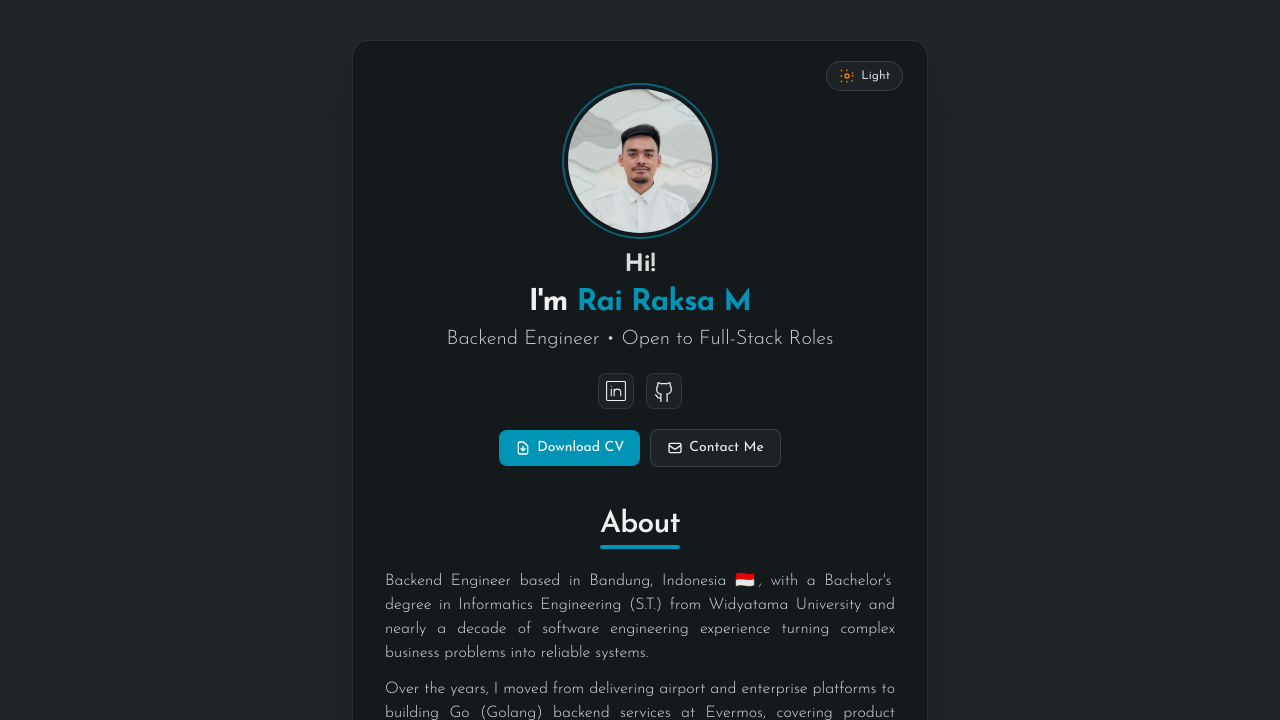
Test case: App › toggles between dark mode and light mode
Click the button with aria-label "Switch to light mode". click: (865, 76)
box: [826,61,903,91]
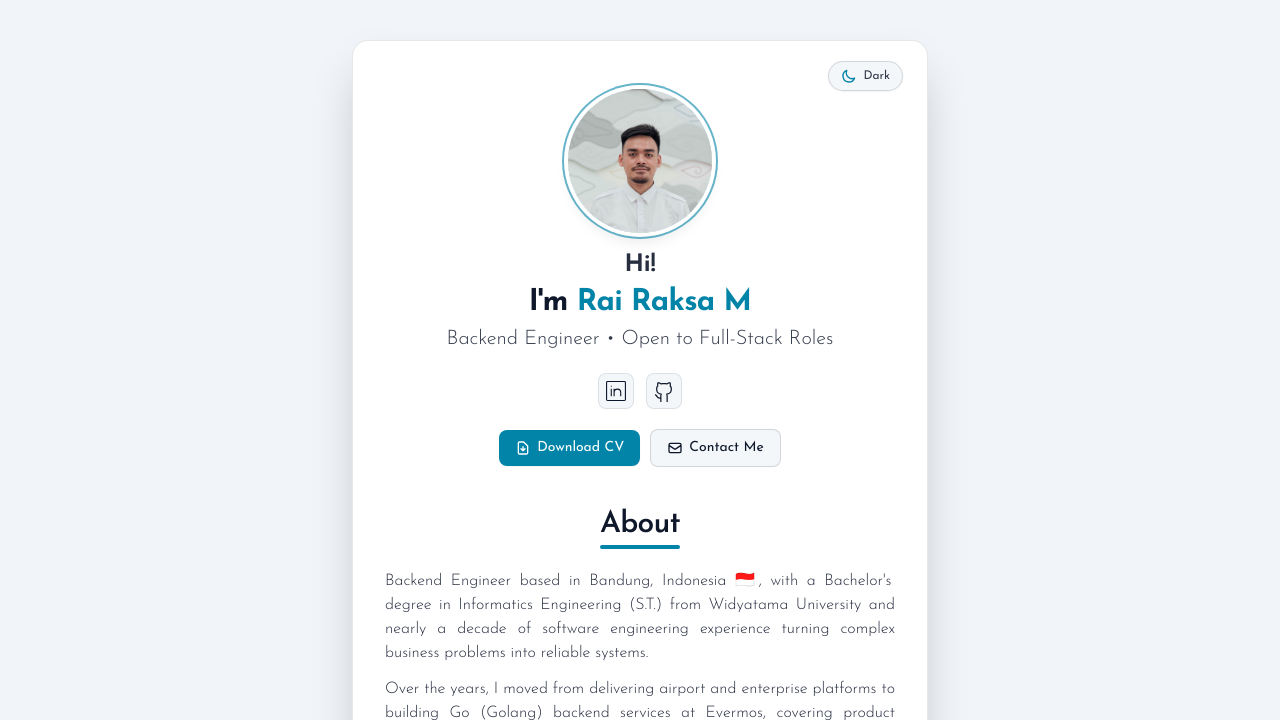
Now the button with aria-label "Switch to dark mode" is shown, box [828,61,903,91]
